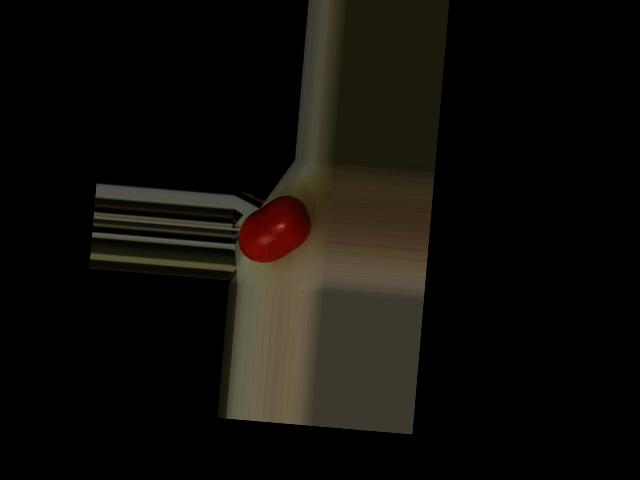tomato: (236, 191, 313, 266)
